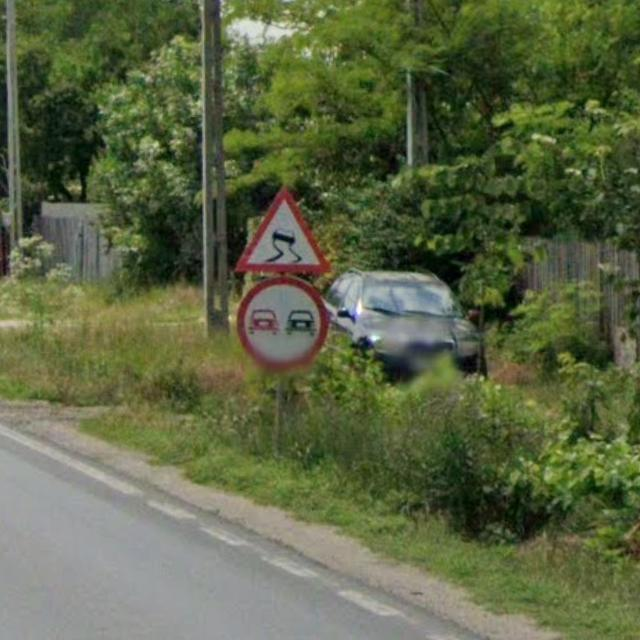forb_overtake: (236, 277, 333, 370)
